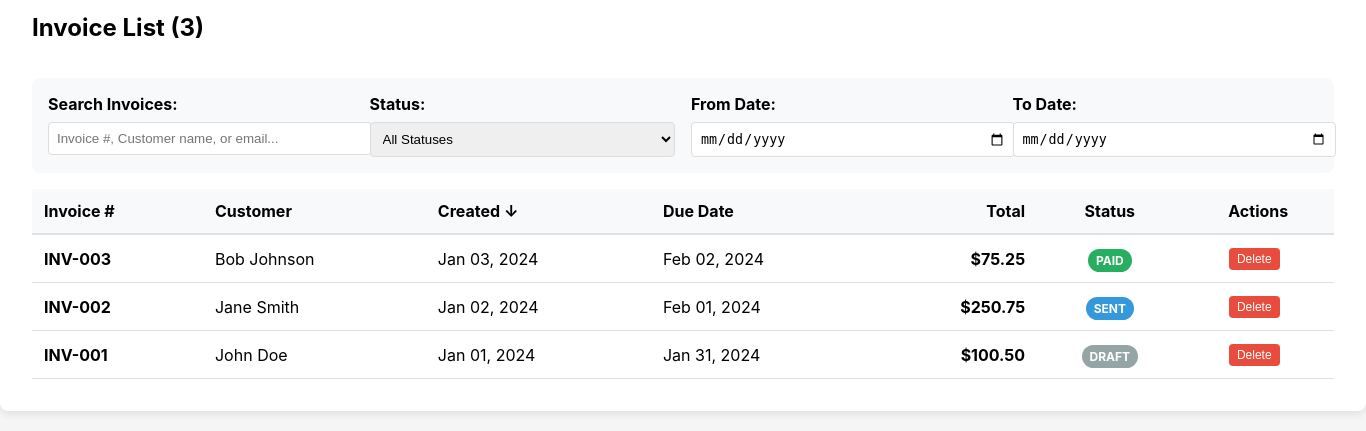
it: InvoiceList Component › sorts invoices by clicking column headers
Click on Customer column to sort
Click the column heading "Customer": (314, 212) top-left (203, 189), bottom-right (426, 234)
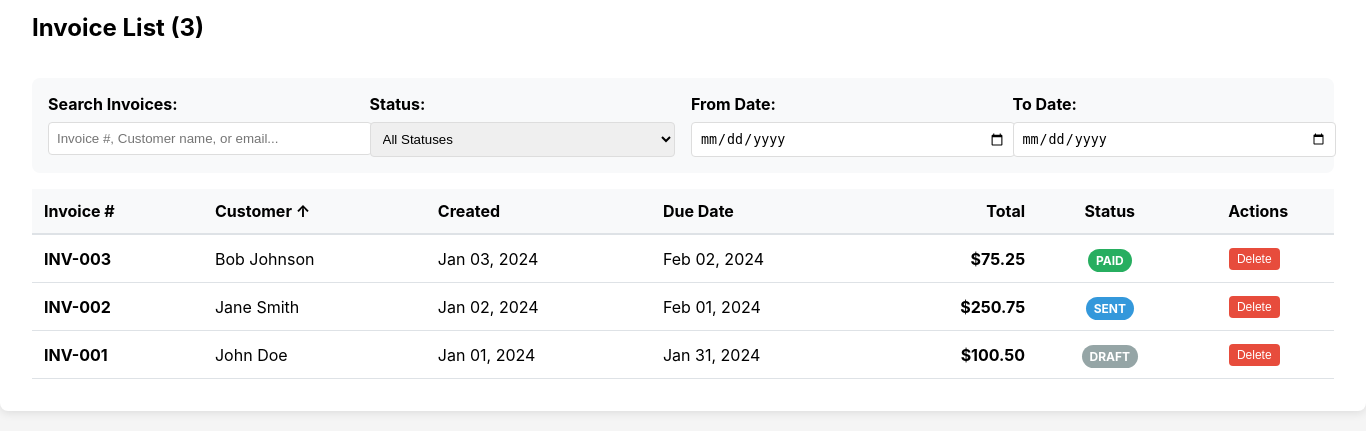
Result: the column heading "Customer ↑" is shown at top-left (203, 189), bottom-right (426, 234)
